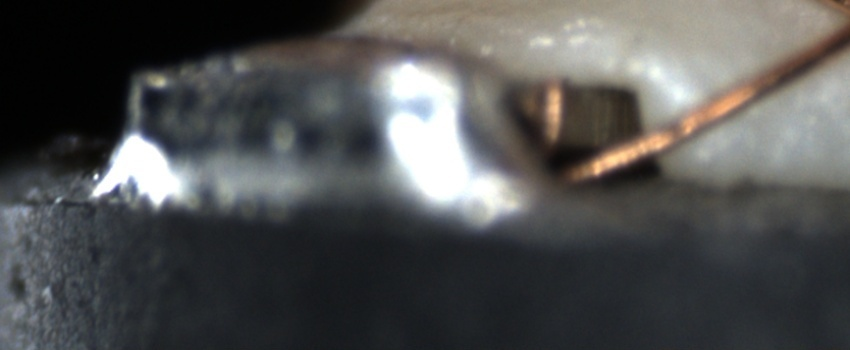TE: (519, 75, 572, 161)
